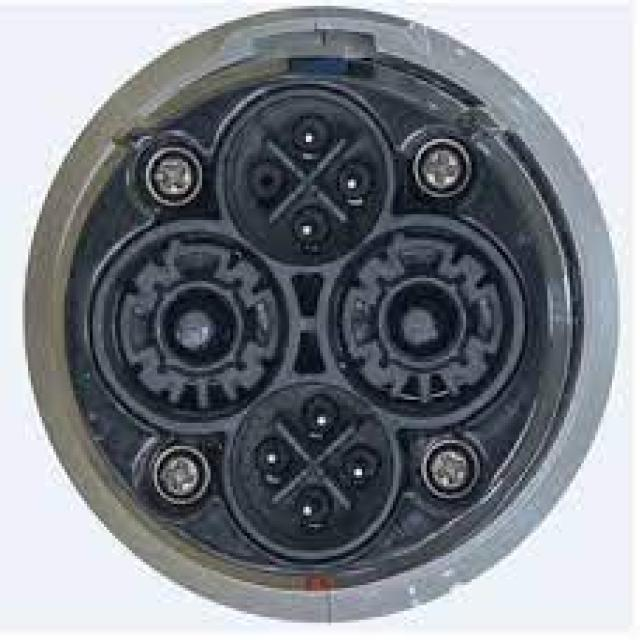CHAdeMO: (69, 68, 563, 565)
